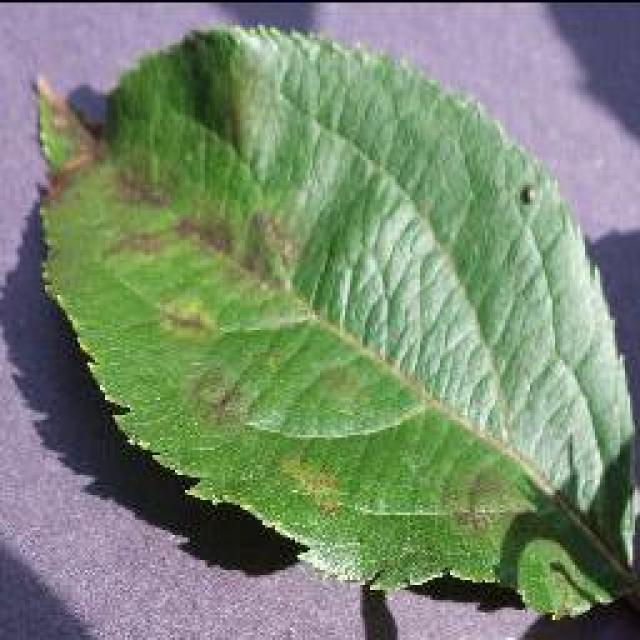apple scab disease: (28, 20, 638, 625)
